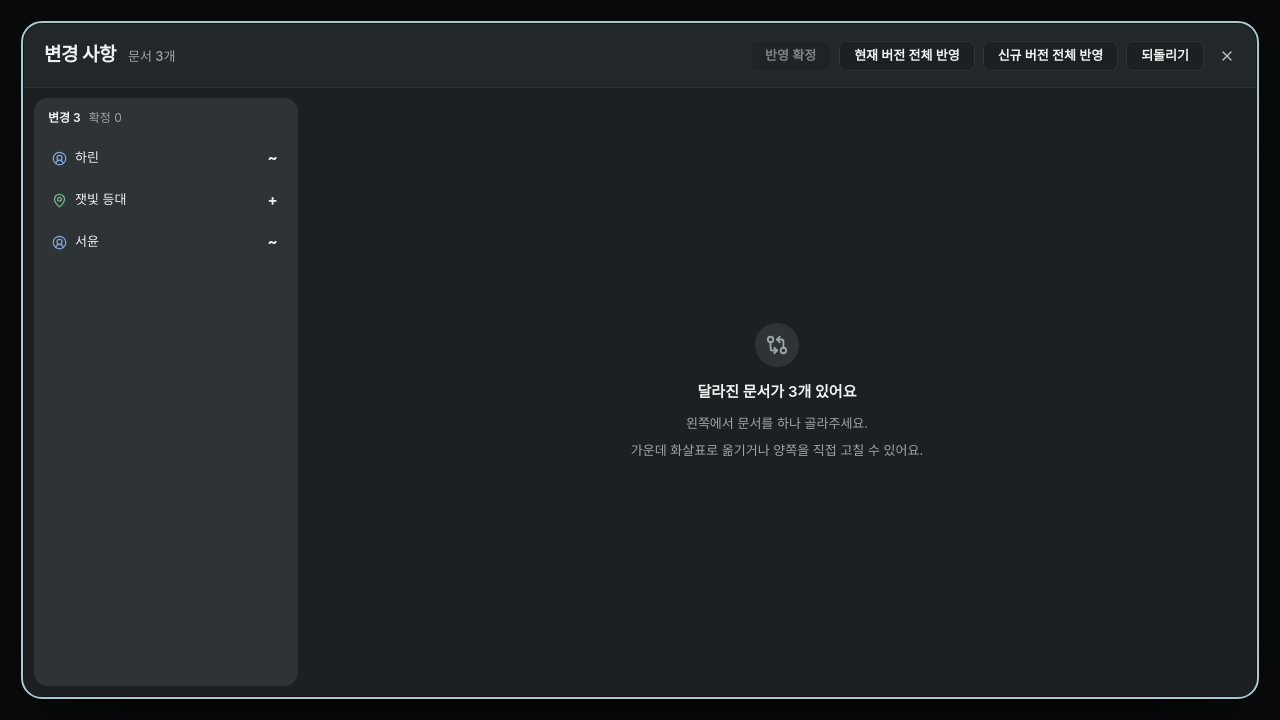
it: GraphDiffModal › preserves local input and warns before reloading a review changed during reauthentication
What coordinates should you click on to do the following:
click the button "신규 버전 전체 반영"
I would click on:
 (1050, 56)
Its box is left=983, top=40, right=1118, bottom=70.
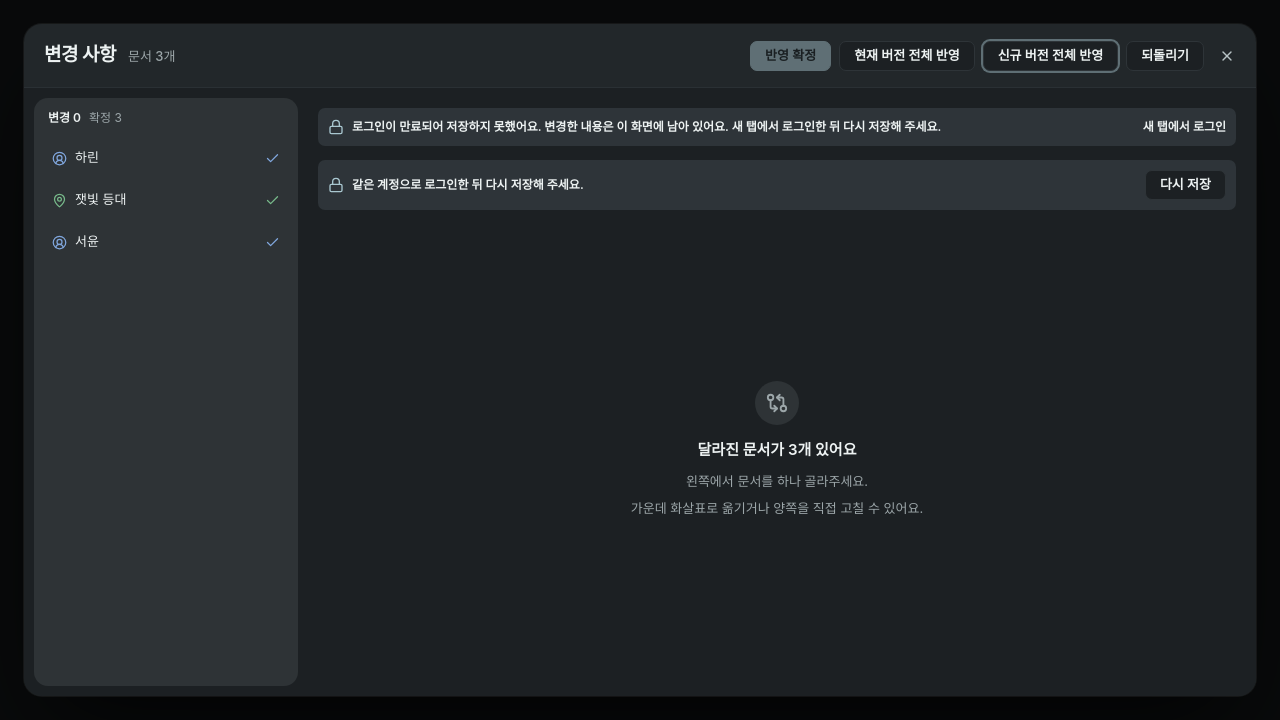
Expected: the link "새 탭에서 로그인" is shown, left=1143, top=118, right=1226, bottom=136
What coordinates should you click on to do the following:
click the button "다시 저장"
I would click on:
 (1185, 185)
Its box is left=1145, top=170, right=1226, bottom=200.
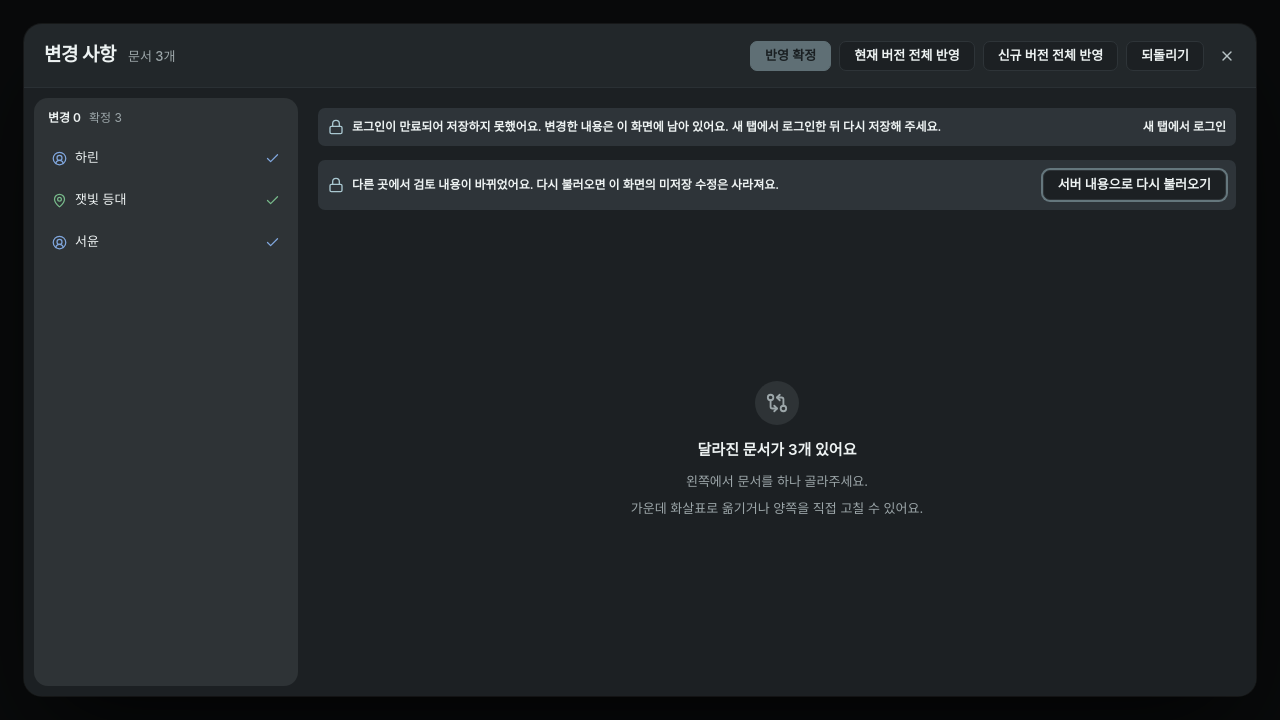
Expected: the button "반영 확정" is disabled, left=750, top=40, right=831, bottom=70
Expected: the text "다른 곳에서 검토 내용이 바뀌었어요. 다시 불러오면 이 화면의 미저장 수정은 사라져요." is shown, left=352, top=177, right=779, bottom=192
Expected: the button "서버 내용으로 다시 불러오기" is shown, left=1043, top=170, right=1226, bottom=200
